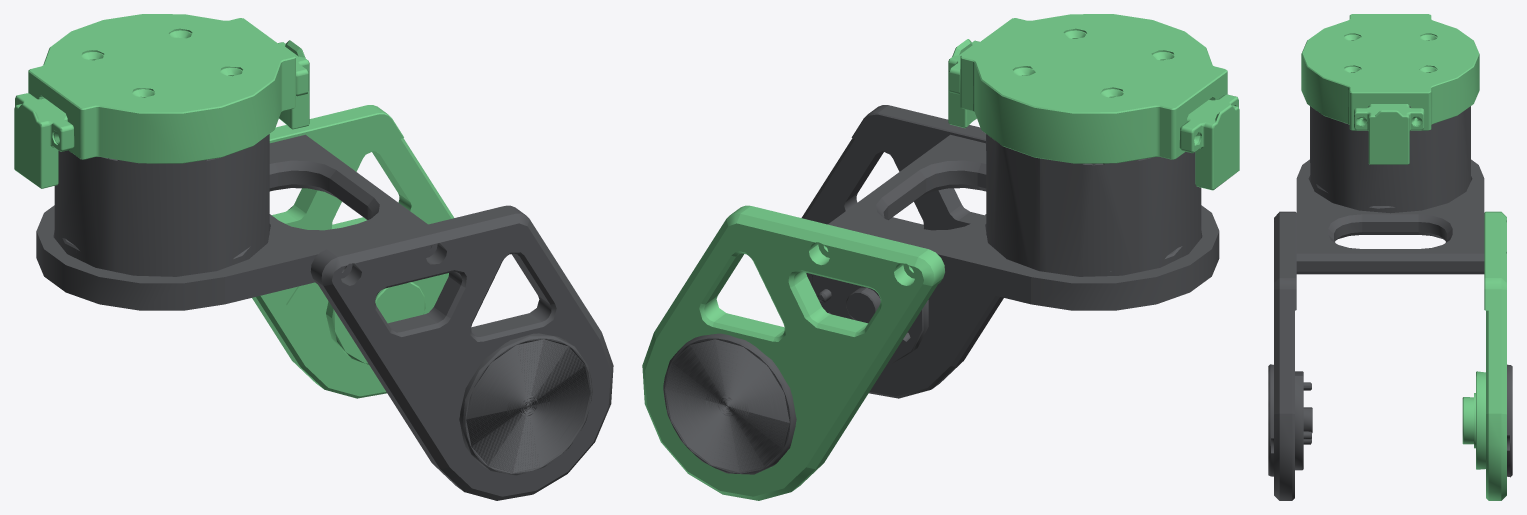
3 views of the same model, side by side, from view 1: azimuth 30°, elevation 25°; view 2: azimuth 150°, elevation 25°; view 3: azimuth 270°, elevation 25° (orthographic). The views are drawn at different scales.
Bounding box in the file's own units: 0.1562 × 0.1313 × 0.0865.
